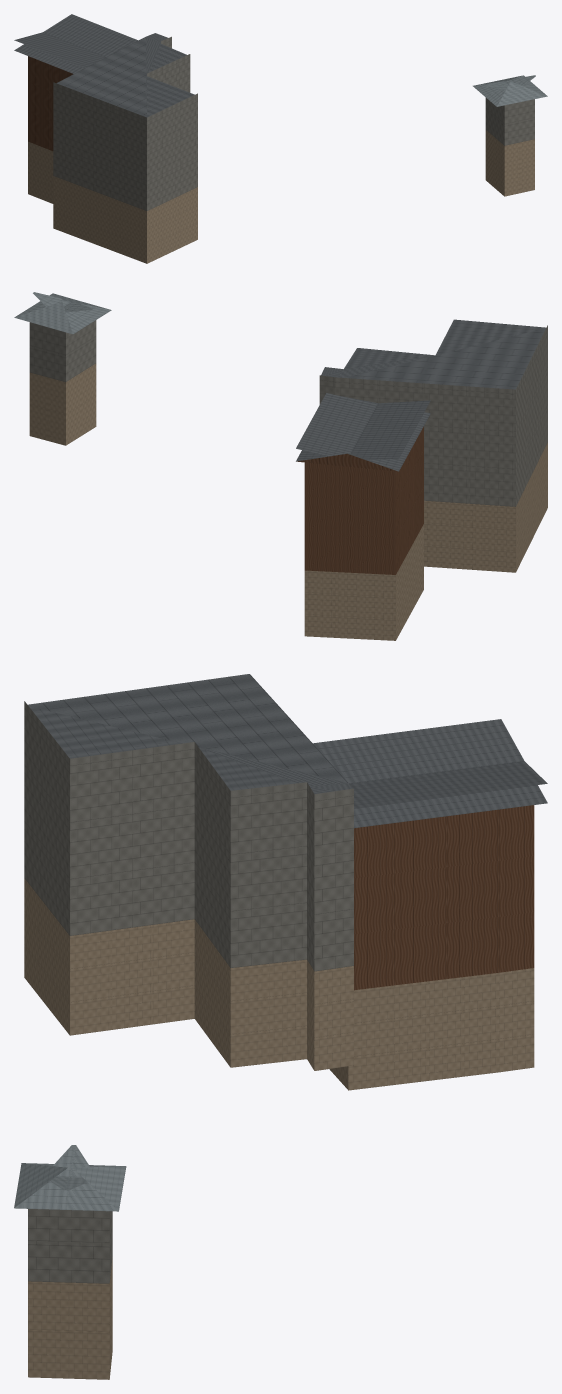
Rendered from bld_c11_18_434.gltf.
The picture shows the model from 3 angles, top to bottom: view 1: azimuth 30°, elevation 25°; view 2: azimuth 150°, elevation 25°; view 3: azimuth 270°, elevation 25°; orthographic projection. The views are drawn at different scales.
Parts seen in each view (by area): view 1: bld_c11_18_434; view 2: bld_c11_18_434; view 3: bld_c11_18_434.
Boxes of the visible parts, box(x1,y1,x2,y2) form: bld_c11_18_434: box(14, 14, 547, 263); bld_c11_18_434: box(14, 292, 547, 640); bld_c11_18_434: box(14, 674, 547, 1379).
Bounding box in the file's own units: 44.16 × 16.28 × 24.78.
7 materials, 7 textured.
